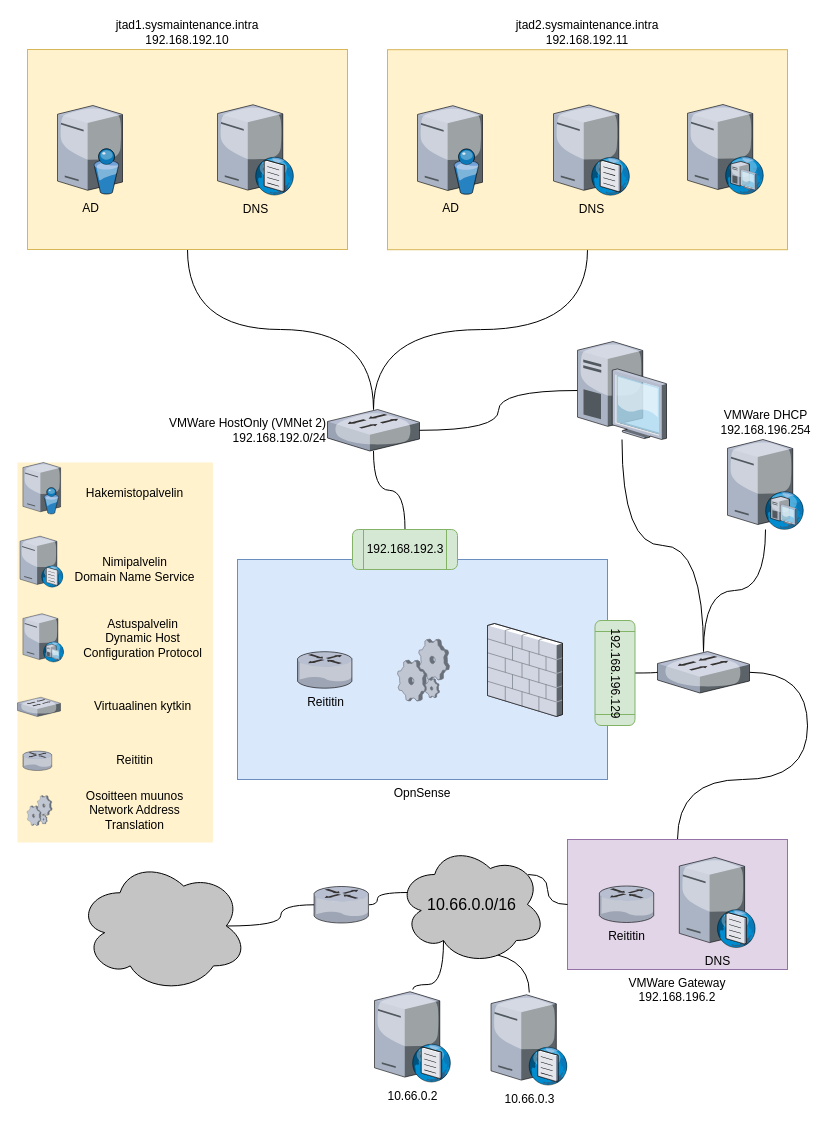
This 827x1123 diagram has some shape labels left out. The centre of each missing label's shape, as x and y in pixels:
DHCP: point 725,149
Internet: point 162,925
NAT: point 423,669
Palomuuri: point 524,669
VMWare Host 192.168.196.1 192.168.192.1: point 621,390
VMWare NAT (VMNet 8) 192.168.196.0/24: point 703,671
